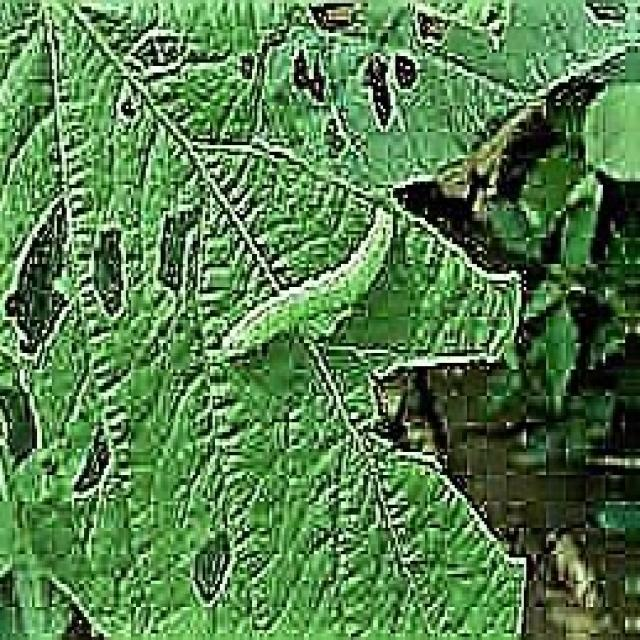Armyworm: (199, 195, 431, 423)
